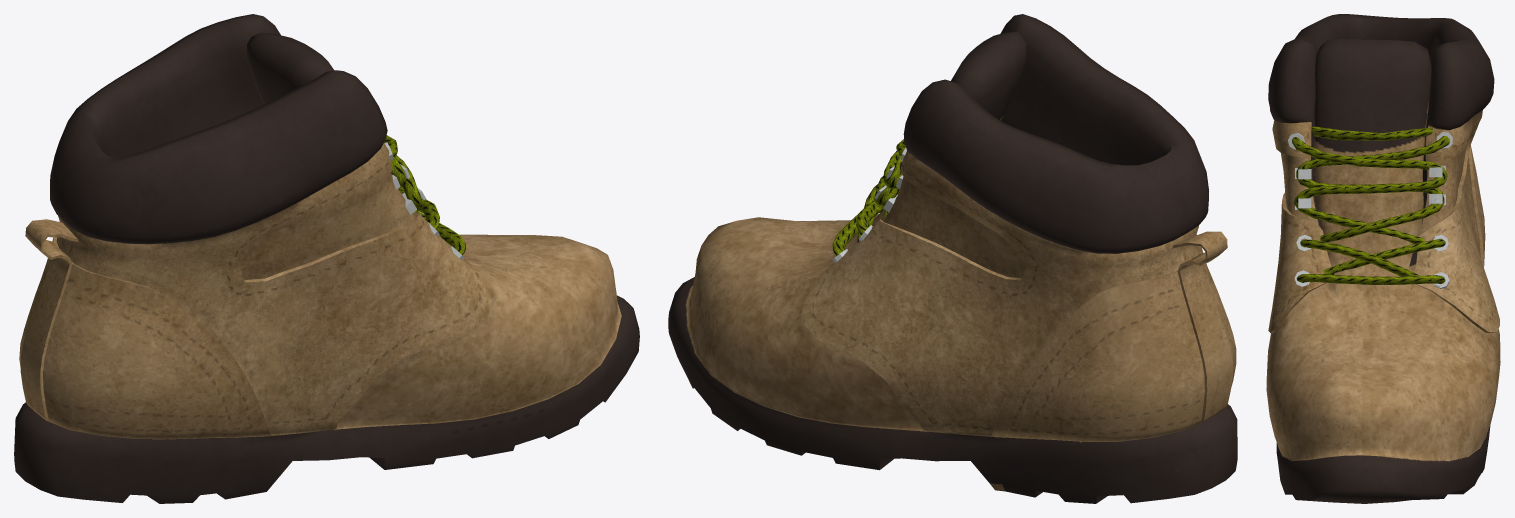
The model's file is workBoots.fbx.
3 renders of one model, left to right at view 1: azimuth 30°, elevation 25°; view 2: azimuth 150°, elevation 25°; view 3: azimuth 270°, elevation 25°, orthographic. The views are drawn at different scales.
Visible parts, largest first — view 1: workBoots; view 2: workBoots; view 3: workBoots.
Boxes of the visible parts, x1,y1,x2,y2 form: workBoots: (14,14,639,503); workBoots: (668,14,1237,503); workBoots: (1266,14,1500,503).
Size of the model in its own units: 387 by 259 by 152.
